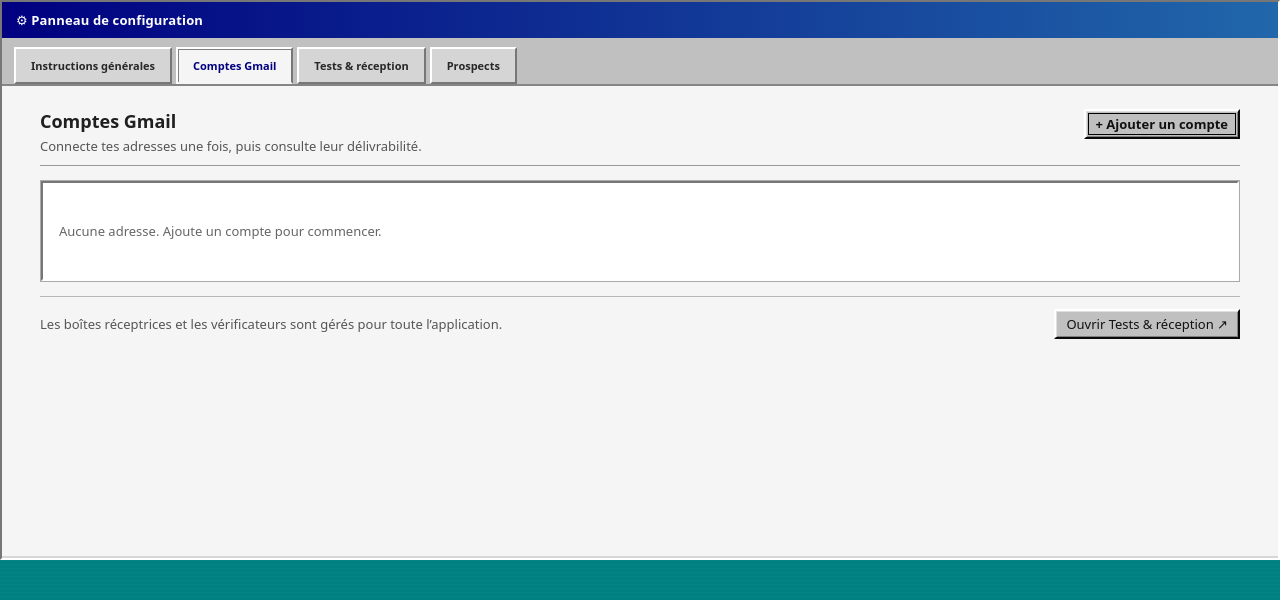
Test: SettingsView blacklist › paginates on the server and resets the page when searching
Step 1. Click the button "Prospects" → (473, 66), box [430, 47, 517, 84]
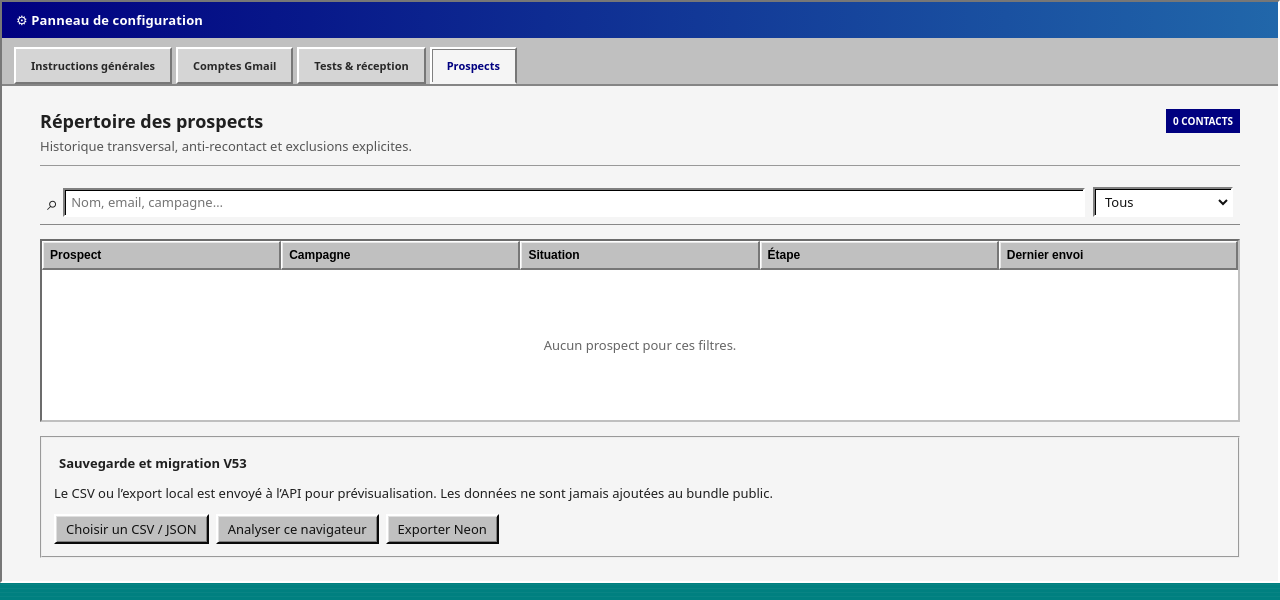
Step 2. Select "Blacklist" in the dropdown named "Filtrer les prospects" → (1163, 202), box [1093, 187, 1233, 217]
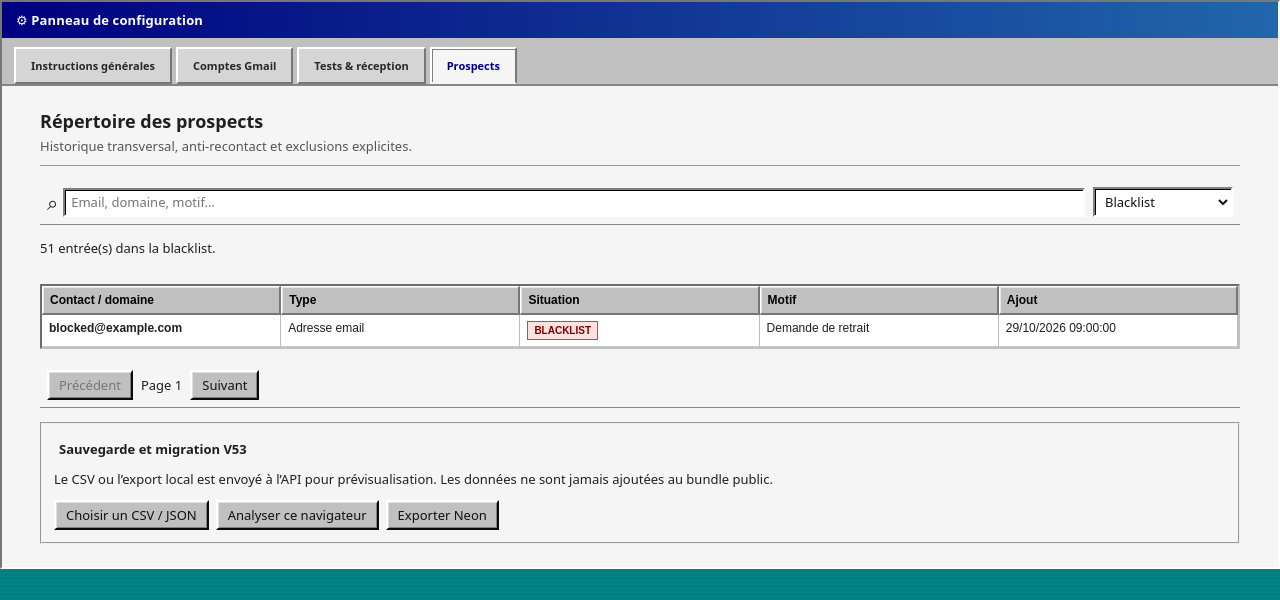
Result: the text "blocked@example.com" is shown at [49, 321, 182, 335]
Result: the button "Précédent" is disabled at [47, 370, 133, 400]
Step 3. Click the button "Suivant" → (225, 385), box [190, 370, 260, 400]
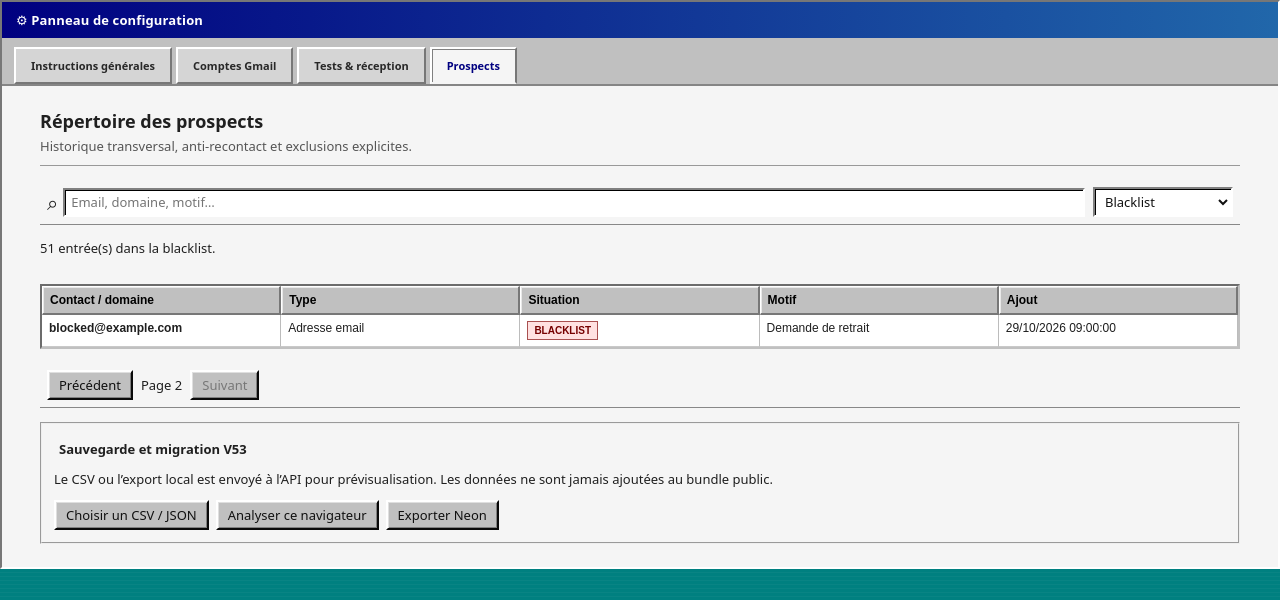
Result: the text "Page 2" is shown at [141, 376, 182, 394]
Result: the button "Suivant" is disabled at [190, 370, 260, 400]
Step 4. Type "example.com" into the field with placeholder "Email, domaine, motif…" → (574, 202), box [63, 188, 1085, 216]
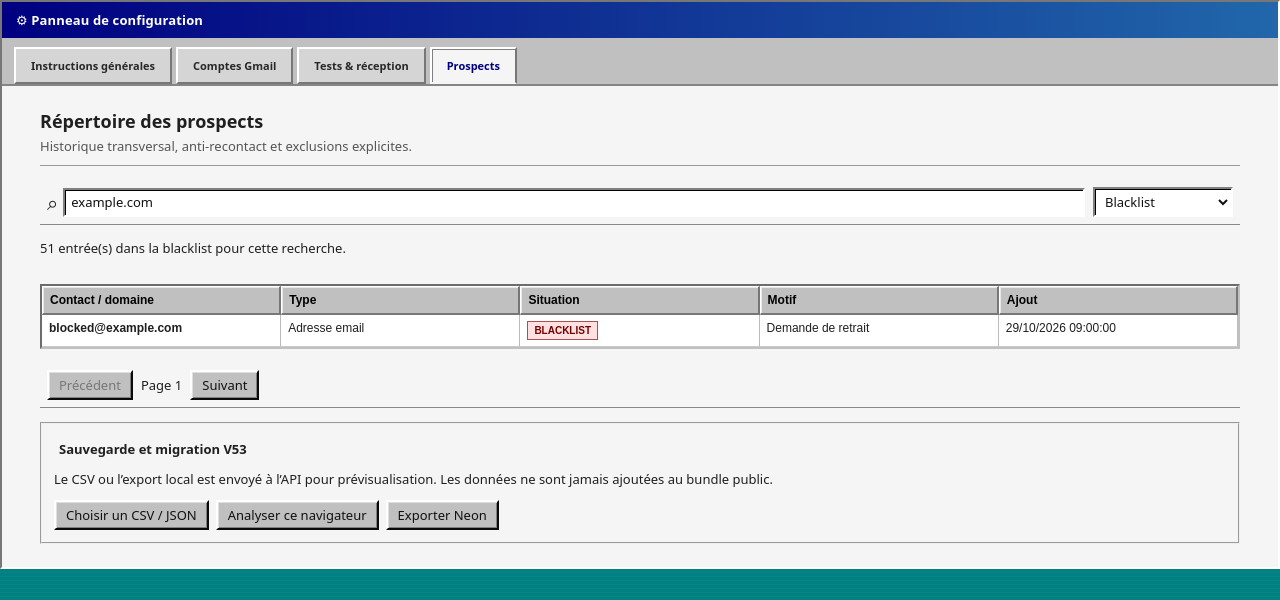
Result: the text "Page 1" is shown at [141, 376, 182, 394]
